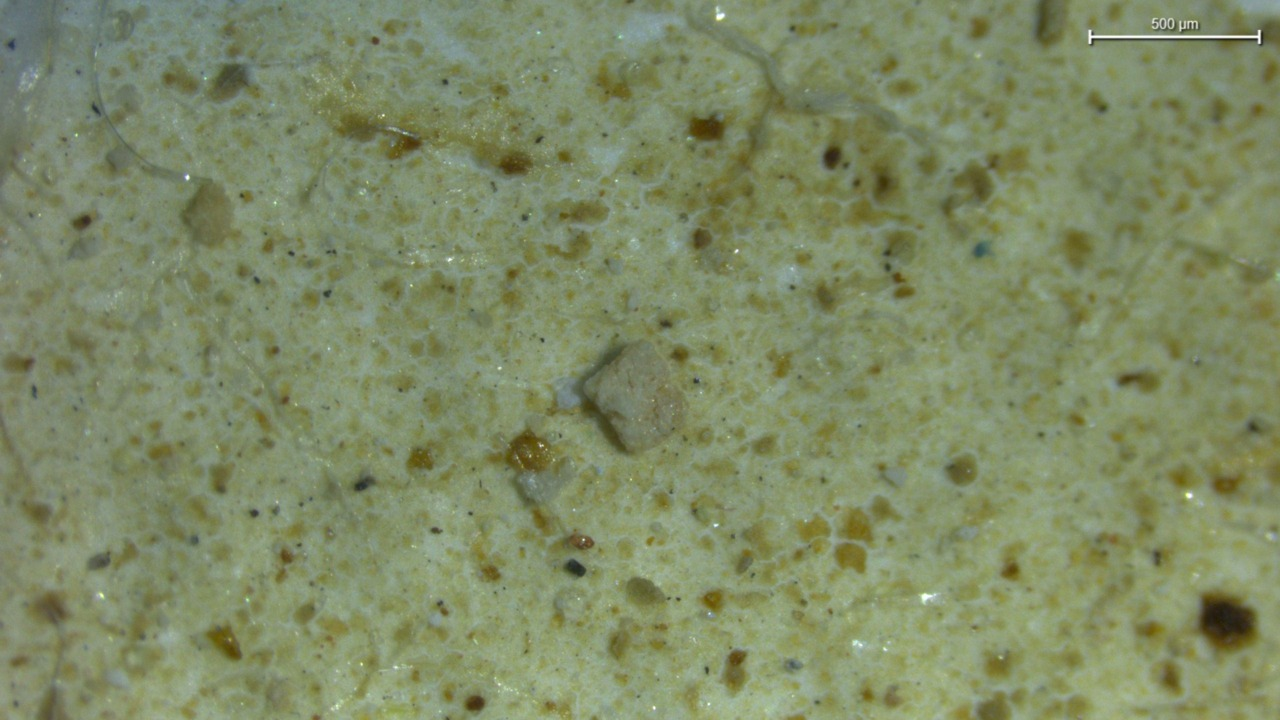microplastic_fragment: (583, 342, 685, 452), (182, 182, 233, 246), (516, 459, 575, 505)
